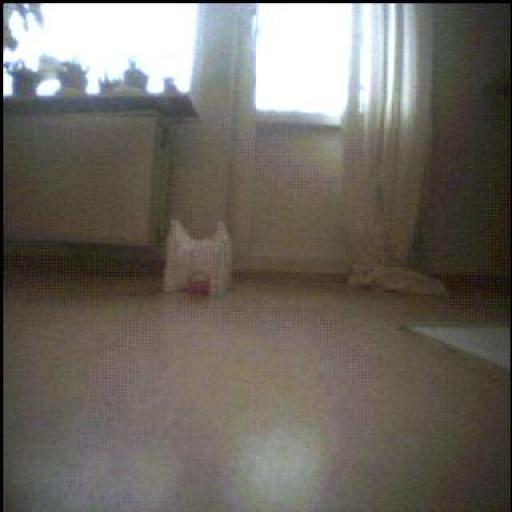Basket: (188, 273, 211, 297)
